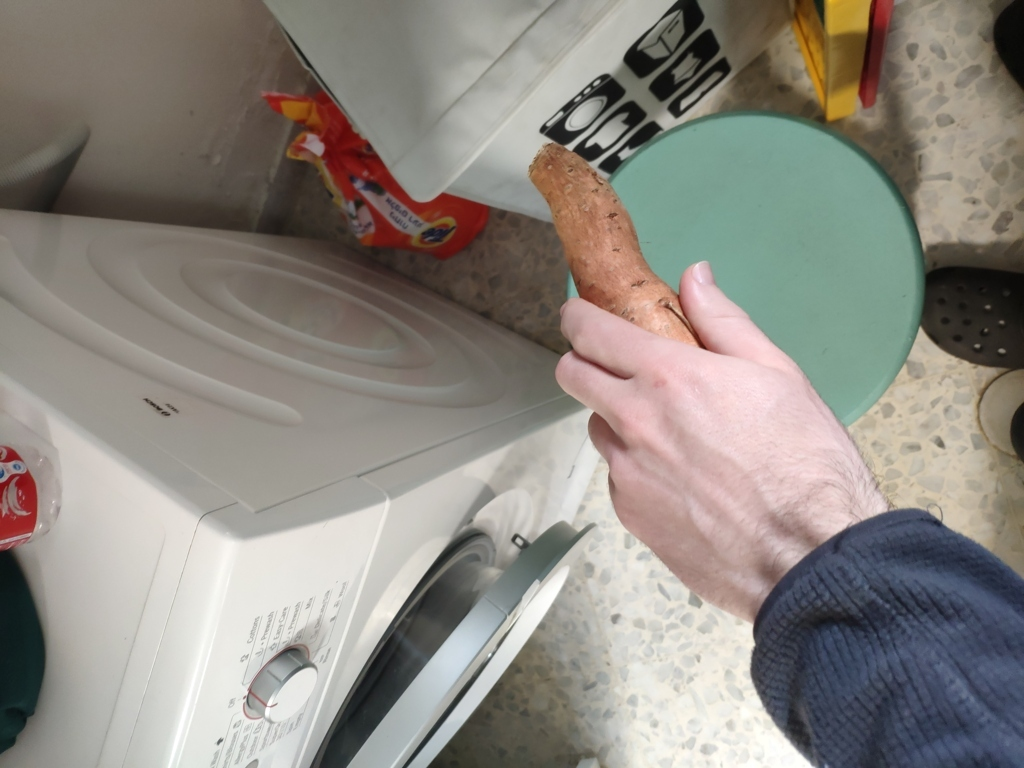Sweet Potato: (524, 156, 791, 506)
